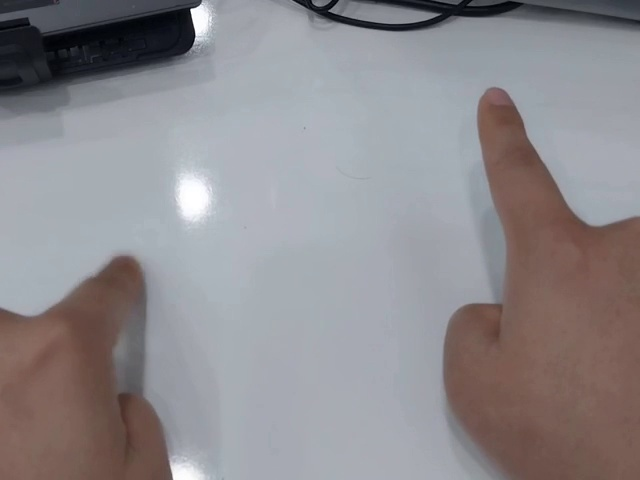fingers: (96, 256, 143, 303), (475, 86, 524, 125)
